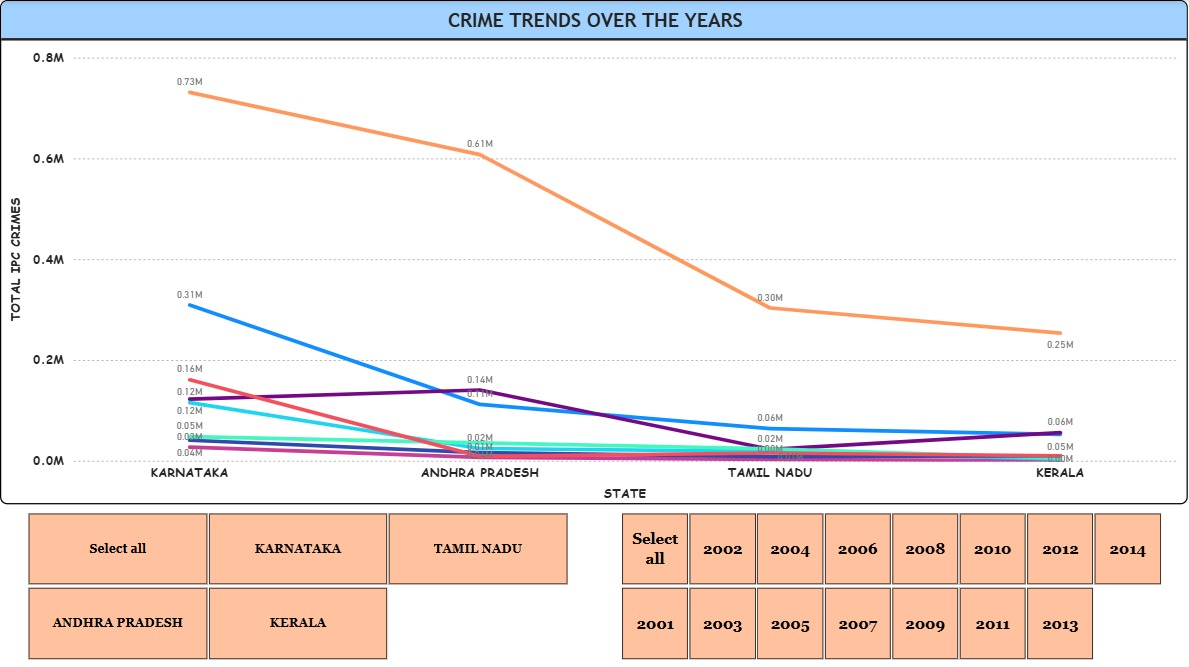

Layout of this report page (visuals, bound fields, positions):
{"tool":"powerbi","page":{"name":"CRIME TRENDS","canvas":[1280,720],"ordinal":0},"visuals":[{"type":"slicer","fields":{"Values":["Sheet1.YEAR"]},"box":[639.8,542.9,639.8,176.7],"z":0},{"type":"slicer","fields":{"Values":["Sheet1.STATE/UT"]},"box":[0,542.9,639.8,176.7],"z":1000},{"type":"lineChart","title":"CRIME TRENDS OVER THE YEARS ","fields":{"Category":["Sheet1.STATE/UT"],"Y":["Sum(Sheet1.BURGLARY)","Sum(Sheet1.CRUELTY BY HUSBAND OR HIS RELATIVES)","Sum(Sheet1.DOWRY DEATHS)","Sum(Sheet1.HURT/GREVIOUS HURT)","Sum(Sheet1.KIDNAPPING & ABDUCTION)","Sum(Sheet1.MURDER)","Sum(Sheet1.RAPE)","Sum(Sheet1.ROBBERY)"]},"box":[0,0,1279.6,542.9],"z":2000}]}

Visuals, with their boxes in screenshot pixels (x1, y1, x2, y2), scaled from the page's 1280x720 canvas onto the 1189x667 screenshot:
slicer - Sheet1.YEAR: bbox=(594, 503, 1188, 666)
slicer - Sheet1.STATE/UT: bbox=(0, 503, 594, 666)
"CRIME TRENDS OVER THE YEARS " lineChart: bbox=(0, 0, 1188, 503)
